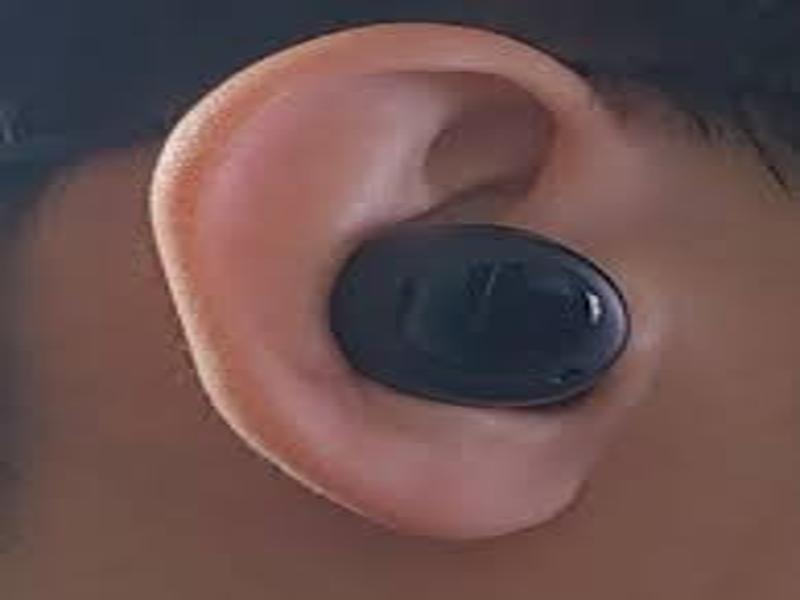headphone: (325, 218, 639, 425)
